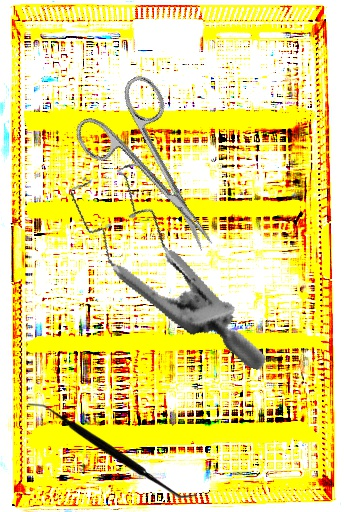Iris Scissors: (64, 69, 246, 276)
Spatula Surgical: (28, 401, 197, 498)
Speculum: (34, 146, 310, 372)
